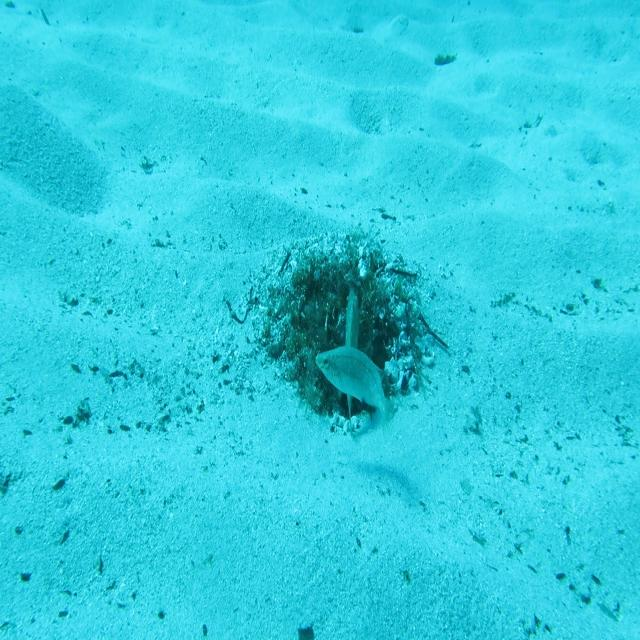FAN: (338, 284, 368, 444)
core_nest: (315, 272, 357, 306)
female: (314, 343, 402, 451)
nest: (239, 220, 437, 451)
vegetation: (433, 50, 458, 70)
